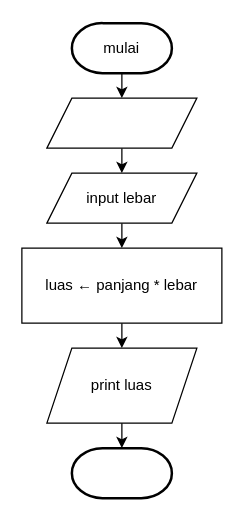
This 244x520 diagram has some shape labels left out. The box of each missing label's shape, as (x1, y1, x2, y2) in pixels:
input panjang: (46, 97, 197, 148)
selesai: (70, 446, 172, 499)
